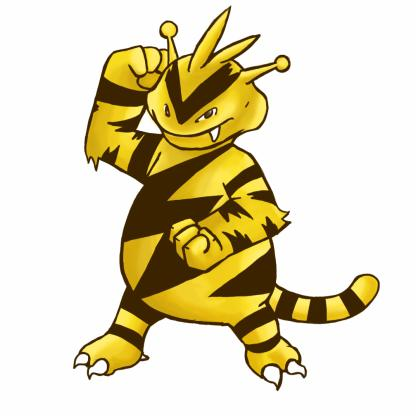Electabuzz: (74, 12, 390, 391)
